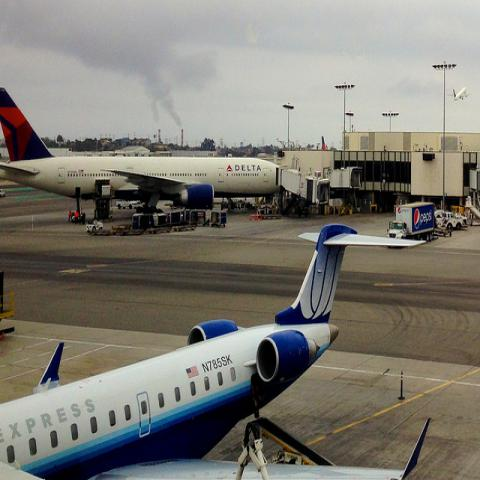car: (435, 210, 464, 231), (434, 216, 456, 238), (86, 220, 104, 234)
truck: (386, 201, 434, 241)
